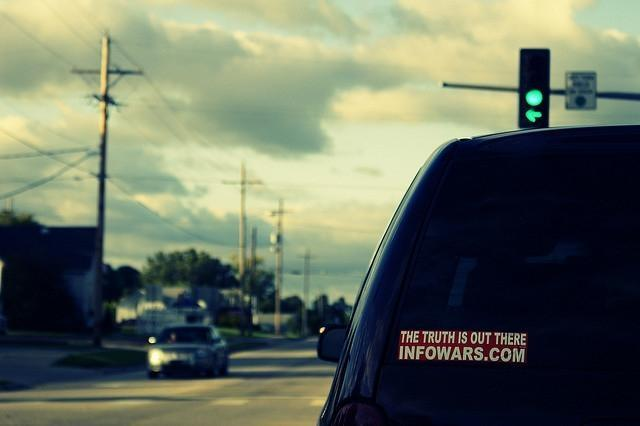car: (313, 125, 640, 422), (146, 326, 228, 380)
